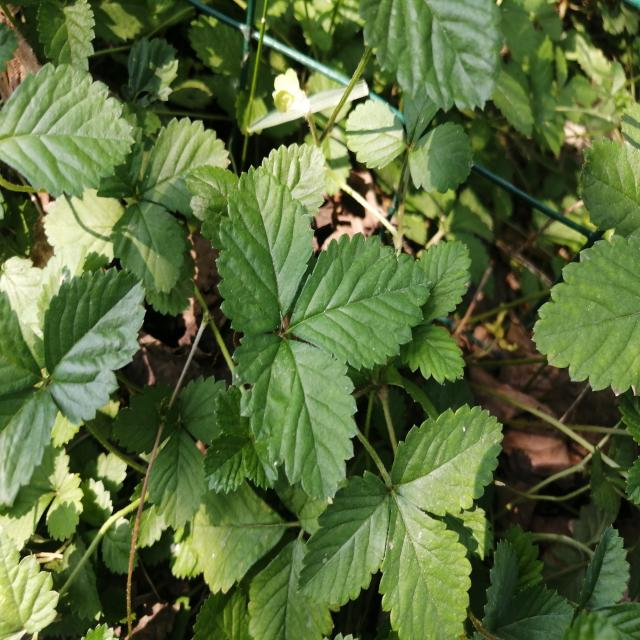Mock_strawberry: (297, 414, 505, 634)
